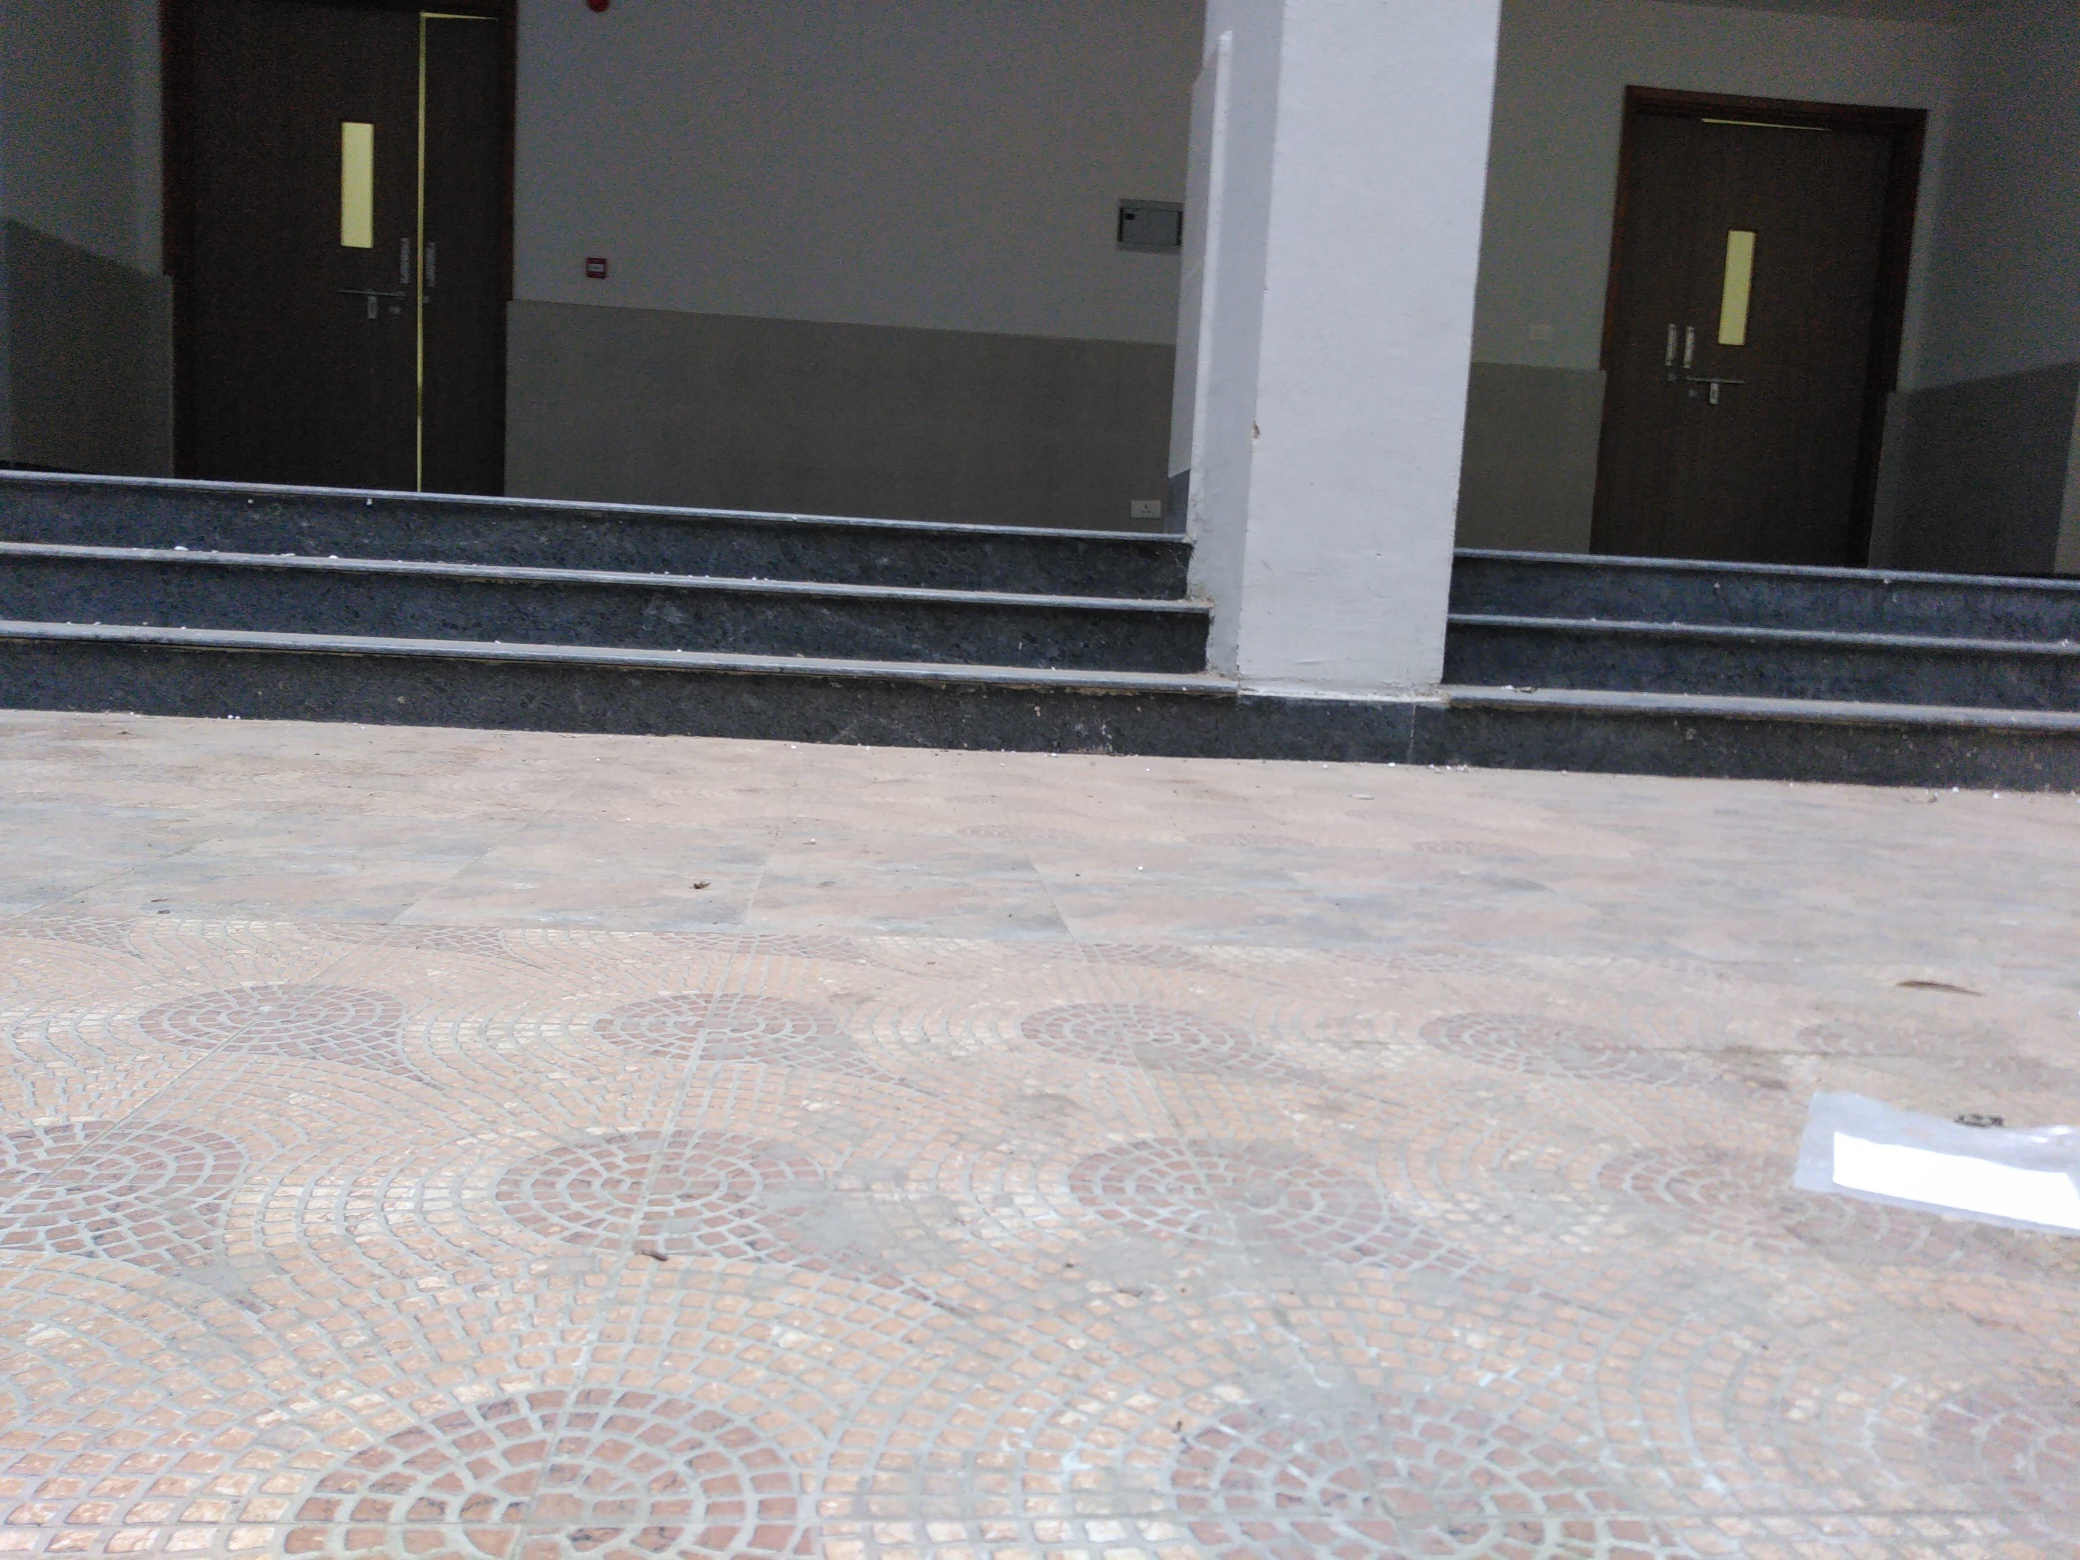stairs_up: (10, 456, 1238, 754), (1461, 547, 2075, 795)
